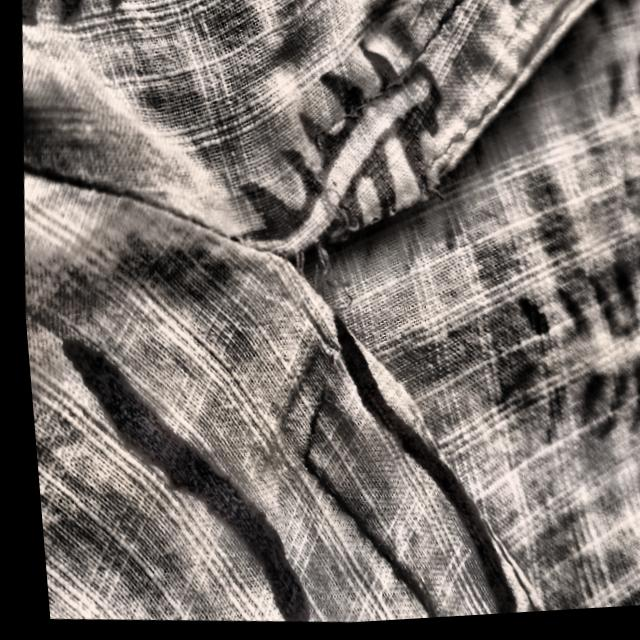Stitch: (259, 82, 396, 388)
